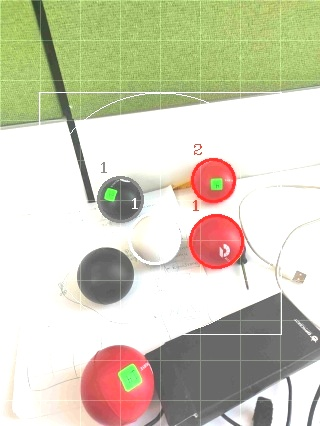Pelota blanca: (276, 217, 320, 331), (239, 185, 289, 267), (76, 246, 134, 304), (127, 212, 182, 267), (95, 174, 145, 224)
Pelota negra: (76, 246, 134, 304), (95, 174, 145, 224), (249, 395, 275, 425)
Pelota roja: (79, 342, 155, 425), (188, 212, 246, 270), (188, 156, 238, 203)
